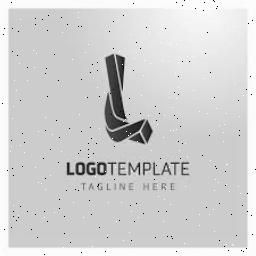l: (76, 40, 174, 152)
